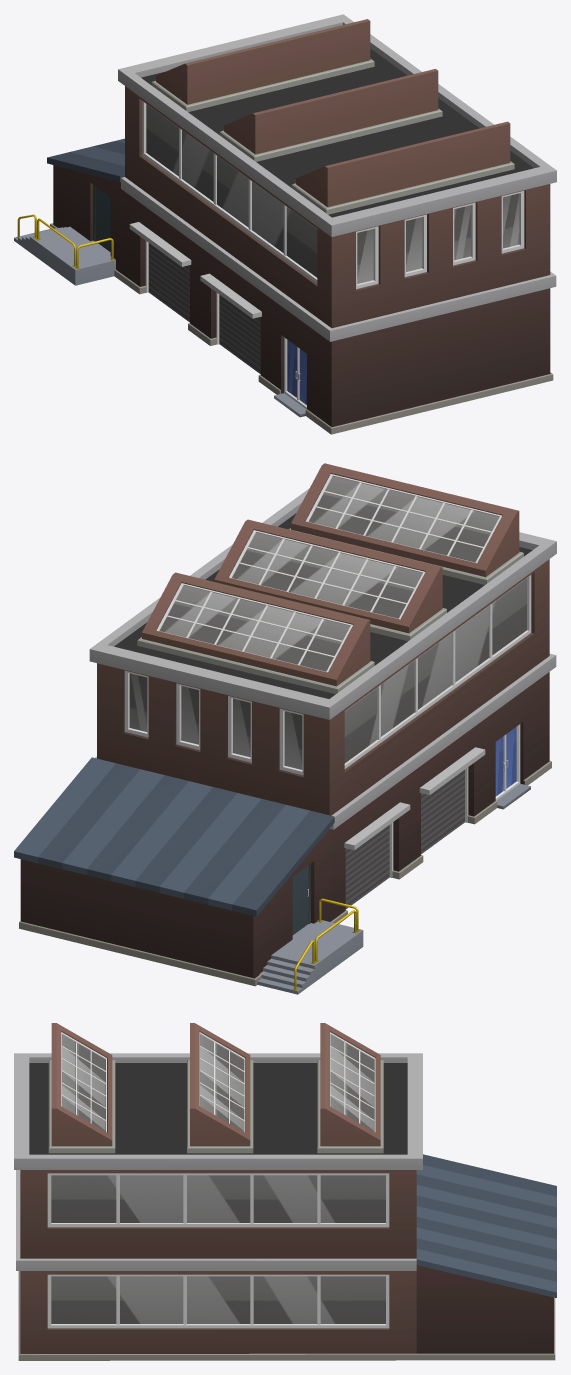
Rendered from Building_Factory_1_B.fbx.
3 views of the same model, one above another, from view 1: azimuth 30°, elevation 25°; view 2: azimuth 150°, elevation 25°; view 3: azimuth 270°, elevation 25° (orthographic). The views are drawn at different scales.
Visible parts, largest first — view 1: Building_Factory_1_B; view 2: Building_Factory_1_B; view 3: Building_Factory_1_B.
Part boxes in pixels (left/top/right/bottom): Building_Factory_1_B: left=14, top=14, right=556, bottom=434; Building_Factory_1_B: left=14, top=463, right=556, bottom=994; Building_Factory_1_B: left=14, top=1023, right=556, bottom=1360.
Size of the model in its own units: 1025 by 931 by 1907.
